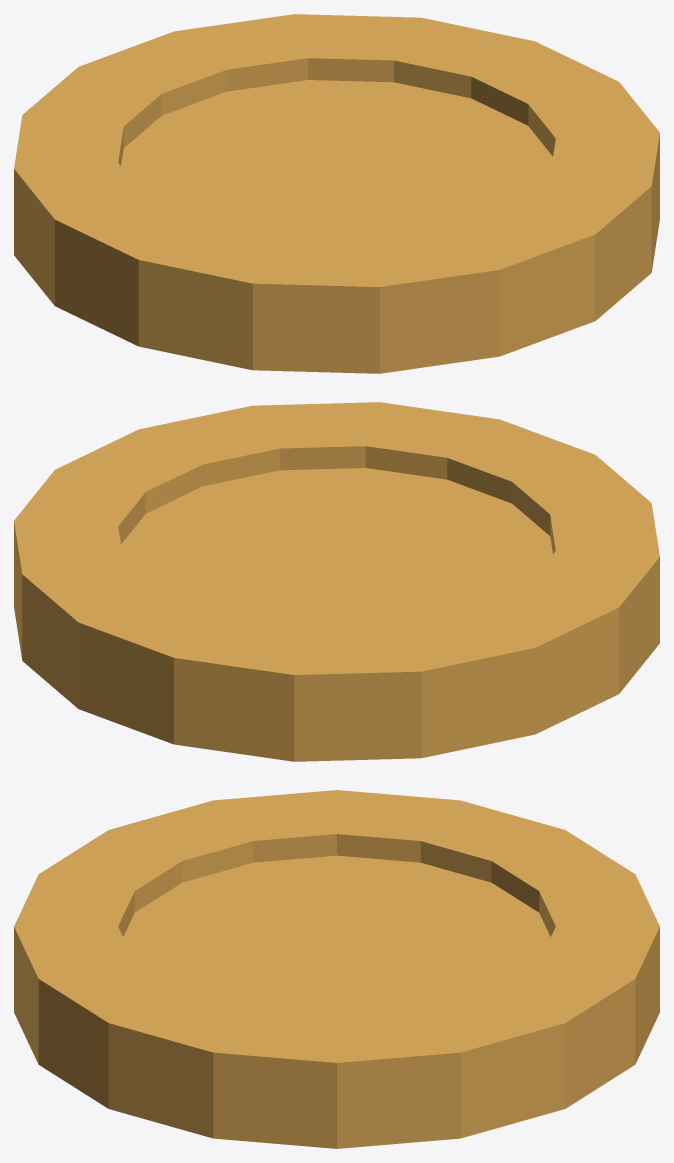
Rendered from moeda.glb.
3 renders of one model, top to bottom at view 1: azimuth 30°, elevation 25°; view 2: azimuth 150°, elevation 25°; view 3: azimuth 270°, elevation 25°, orthographic.
Parts seen in each view (by area): view 1: bitcoin; view 2: bitcoin; view 3: bitcoin.
Boxes of the visible parts, <box> form: bitcoin: <box>14,14,659,373</box>; bitcoin: <box>14,402,659,761</box>; bitcoin: <box>14,790,659,1148</box>.
Bounding box in the file's own units: 0.4935 × 0.0724 × 0.4935.
